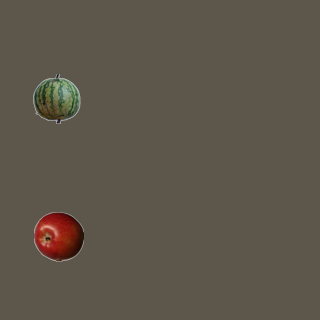Apple Braeburn: (33, 211, 83, 261)
Watermelon: (31, 73, 81, 123)
